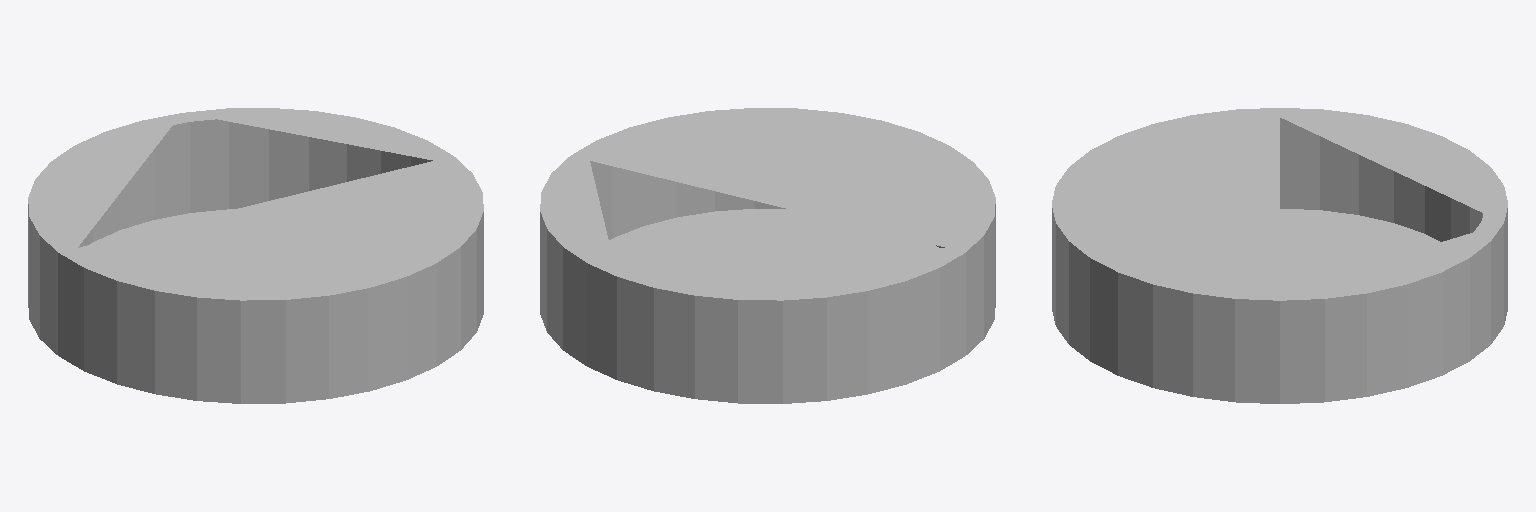
Rendered from petriSchaal.obj.
The picture shows the model from 3 angles: view 1: azimuth 30°, elevation 25°; view 2: azimuth 150°, elevation 25°; view 3: azimuth 270°, elevation 25°; orthographic projection.
Visible parts, largest first — view 1: Cylinder; view 2: Cylinder; view 3: Cylinder.
Boxes of the visible parts, x1=… form: Cylinder: x1=28, y1=108, x2=483, y2=403; Cylinder: x1=540, y1=108, x2=995, y2=403; Cylinder: x1=1052, y1=108, x2=1507, y2=403.
Size of the model in its own units: 2 by 0.5 by 2.